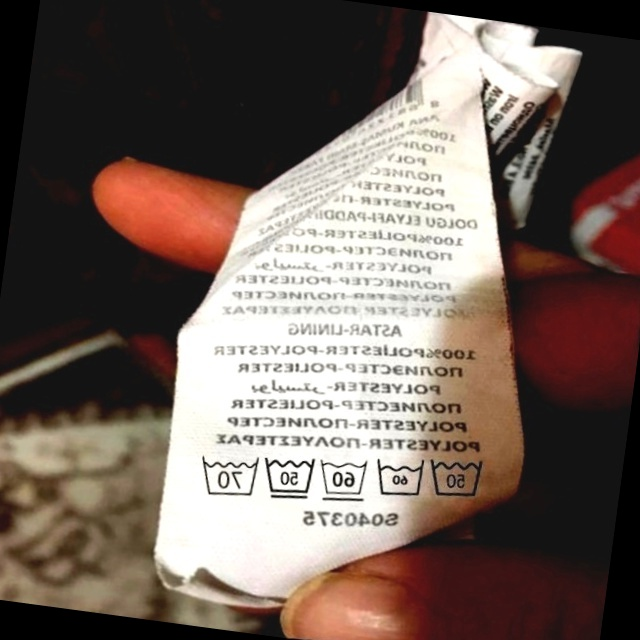50C: (421, 446, 492, 507), (256, 448, 321, 507)
60C: (311, 449, 373, 507), (367, 450, 430, 506)
70C: (190, 447, 262, 504)
